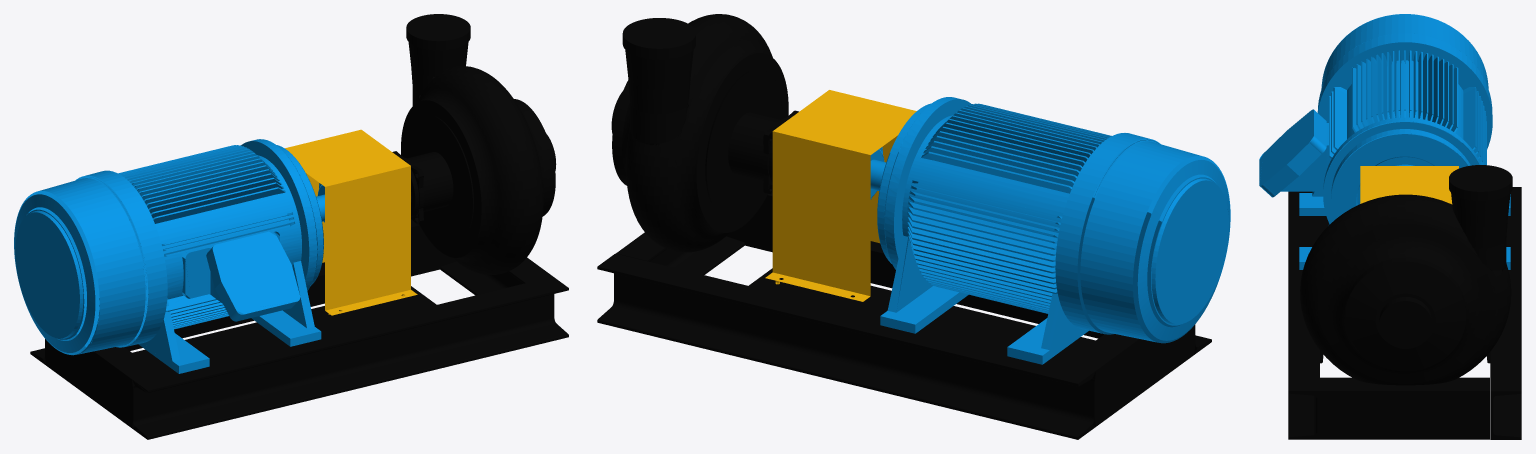
Rendered from bomba_centrifuga.glb.
3 renders of one model, left to right at view 1: azimuth 30°, elevation 25°; view 2: azimuth 150°, elevation 25°; view 3: azimuth 270°, elevation 25°, orthographic. The views are drawn at different scales.
Parts seen in each view (by area): view 1: Centrifugal Pump, 3DGeom~36; view 2: Centrifugal Pump, 3DGeom~36; view 3: Centrifugal Pump, 3DGeom~36.
Part boxes in pixels (box(x1,y1,x2,y2)): Centrifugal Pump: box(30, 14, 568, 439); 3DGeom~36: box(14, 139, 324, 373); Centrifugal Pump: box(597, 14, 1211, 439); 3DGeom~36: box(870, 97, 1230, 364); Centrifugal Pump: box(1288, 165, 1521, 439); 3DGeom~36: box(1259, 14, 1510, 269).
Bounding box in the file's own units: 0.9 × 0.4285 × 0.4156.
